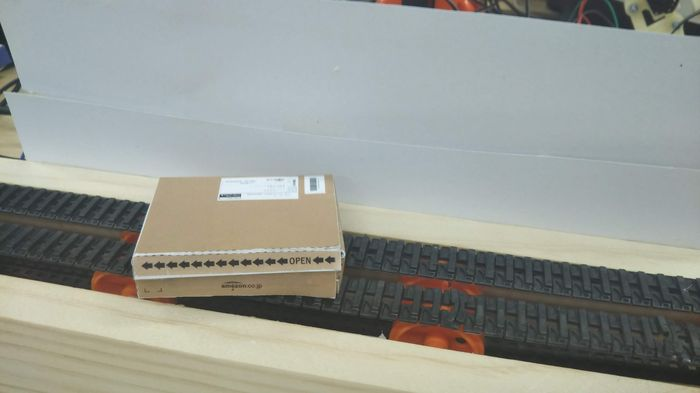box2: (132, 169, 348, 300)
